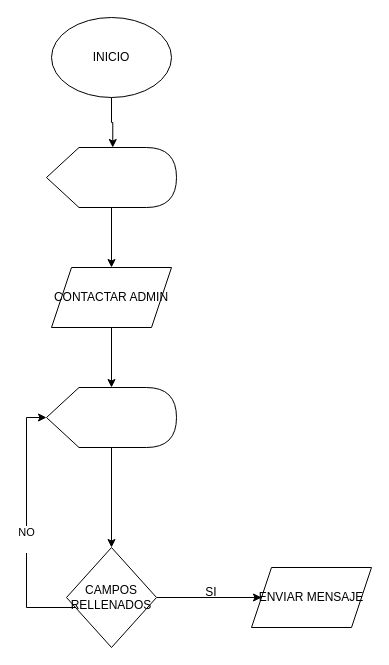
Some shapes in this 389 by 665 pixel diagram are drawn without their labels. The shapes that lost their labels are listed below. From the top down, each one's centre as x and y in pixels, then its label:
point (111, 177): VENTANA_PRINCIPAL_USUARIO
point (111, 417): VENTANA_ENVIAR_MENSAJE
